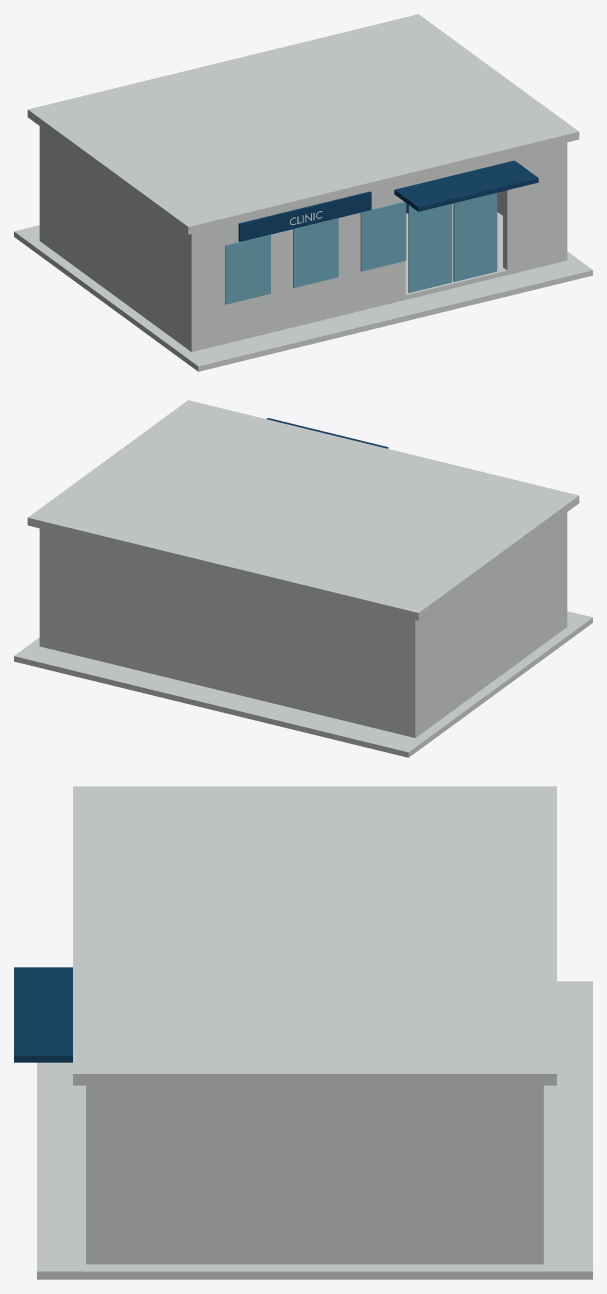
3 renders of one model, top to bottom at view 1: azimuth 30°, elevation 25°; view 2: azimuth 150°, elevation 25°; view 3: azimuth 270°, elevation 25°, orthographic. The views are drawn at different scales.
Parts seen in each view (by area): view 1: ROOF, SIDE_Wall, FRONT_Wall, BASE, FRONT_Wall.001, ENTRY_GlassDoor, FLOOR, ENTRY_GlassDoor.001, ENTRY_Canopy, WAITING_Window.002, WAITING_Window, WAITING_Window.001 (+2 smaller); view 2: ROOF, BACK_Wall, SIDE_Wall, BASE, FLOOR, SIDE_Wall.001; view 3: ROOF, SIDE_Wall.001, BASE, ENTRY_Canopy, FLOOR.
Boxes of the visible parts, x1,y1,x2,y2 form: ROOF: [27, 14, 579, 234]; SIDE_Wall: [39, 126, 197, 347]; FRONT_Wall: [195, 182, 405, 346]; BASE: [14, 225, 592, 371]; FRONT_Wall.001: [503, 142, 567, 270]; ENTRY_GlassDoor: [408, 204, 452, 292]; FLOOR: [39, 203, 567, 351]; ENTRY_GlassDoor.001: [453, 193, 497, 281]; ENTRY_Canopy: [394, 160, 538, 211]; WAITING_Window.002: [360, 201, 406, 271]; WAITING_Window: [225, 234, 270, 304]; WAITING_Window.001: [293, 218, 338, 287]; ROOF: [27, 400, 579, 620]; BACK_Wall: [43, 529, 411, 732]; SIDE_Wall: [408, 512, 567, 733]; BASE: [14, 611, 592, 757]; FLOOR: [39, 623, 567, 737]; SIDE_Wall.001: [39, 528, 43, 642]; ROOF: [73, 786, 556, 1085]; SIDE_Wall.001: [86, 1085, 543, 1257]; BASE: [37, 981, 592, 1279]; ENTRY_Canopy: [14, 967, 72, 1062]; FLOOR: [86, 1257, 543, 1264].
Bounding box in the file's own units: 10.5 × 3.45 × 8.85.
